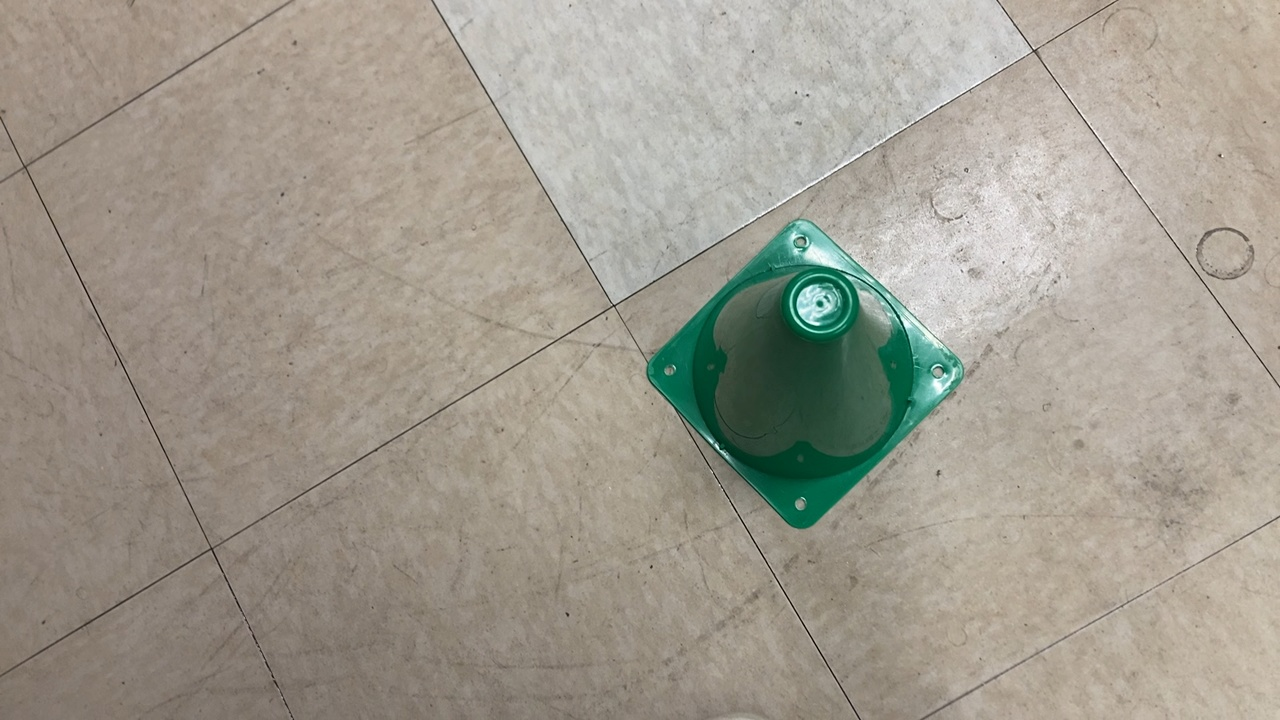green_cone: (640, 217, 966, 535)
